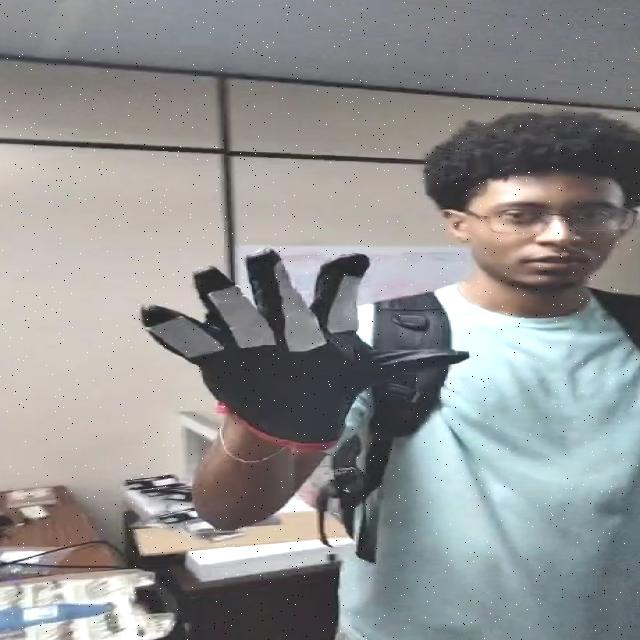Gloves: (140, 243, 477, 450)
